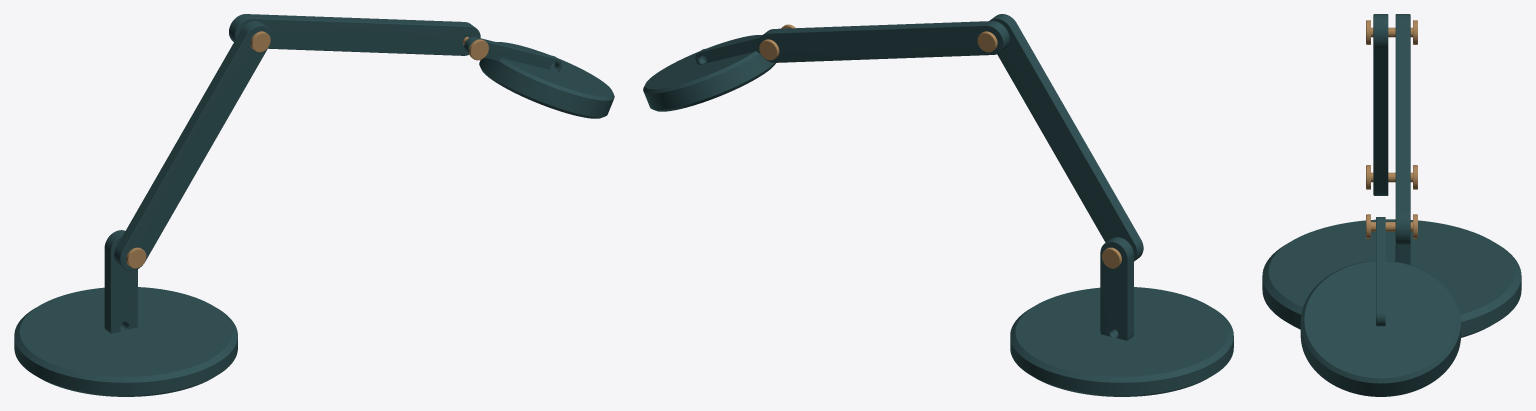
The picture shows the model from 3 angles, left to right: view 1: azimuth 30°, elevation 25°; view 2: azimuth 150°, elevation 25°; view 3: azimuth 270°, elevation 25°; orthographic projection. The views are drawn at different scales.
Visible parts, largest first — view 1: Base body, Lower arm, Upper arm, Head housing, Fixed upright, Head neck; view 2: Base body, Lower arm, Upper arm, Head housing, Fixed upright, Head neck; view 3: Head housing, Base body, Upper arm, Lower arm, Head neck, Fixed upright.
Boxes of the visible parts, <box> form: Base body: <box>14,287,237,396</box>; Lower arm: <box>114,21,271,270</box>; Upper arm: <box>229,14,480,55</box>; Head housing: <box>479,42,614,118</box>; Fixed upright: <box>104,230,137,333</box>; Head neck: <box>464,36,562,71</box>; Base body: <box>1010,287,1233,396</box>; Lower arm: <box>989,14,1143,261</box>; Upper arm: <box>758,21,1009,62</box>; Head housing: <box>643,35,775,111</box>; Fixed upright: <box>1100,237,1133,340</box>; Head neck: <box>695,35,761,64</box>; Head housing: <box>1300,260,1460,396</box>; Base body: <box>1262,219,1521,337</box>; Upper arm: <box>1395,14,1410,245</box>; Lower arm: <box>1373,14,1388,195</box>; Head neck: <box>1376,217,1385,326</box>; Fixed upright: <box>1395,244,1410,264</box>.
Bounding box in the file's own units: 0.6185 × 0.3175 × 0.21.
